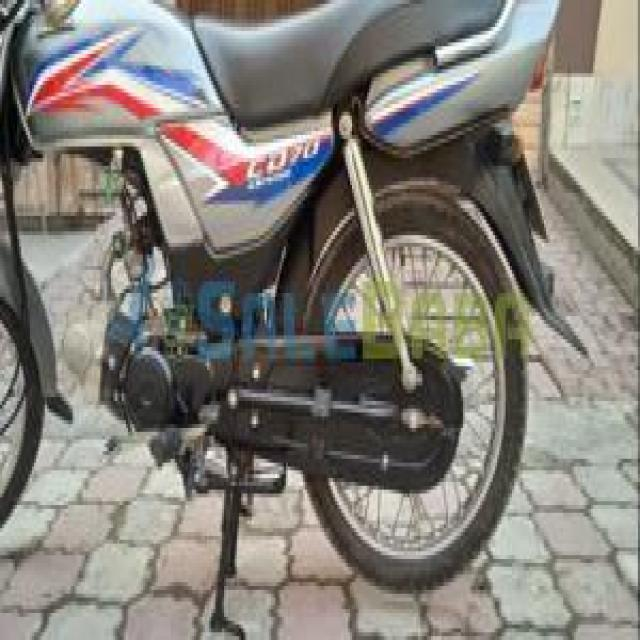motorcycle: (0, 4, 587, 613)
